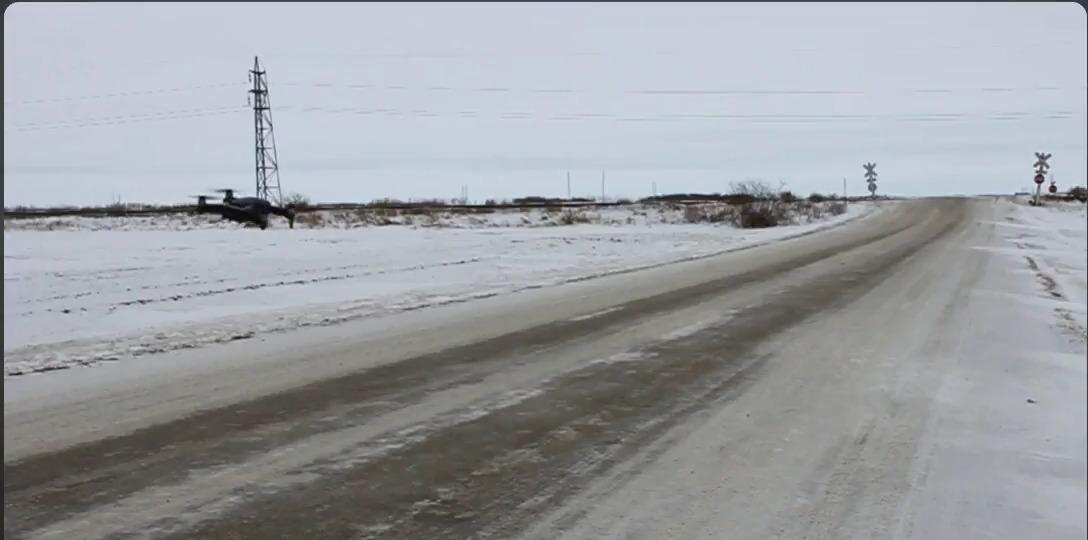dr: (187, 184, 299, 232)
